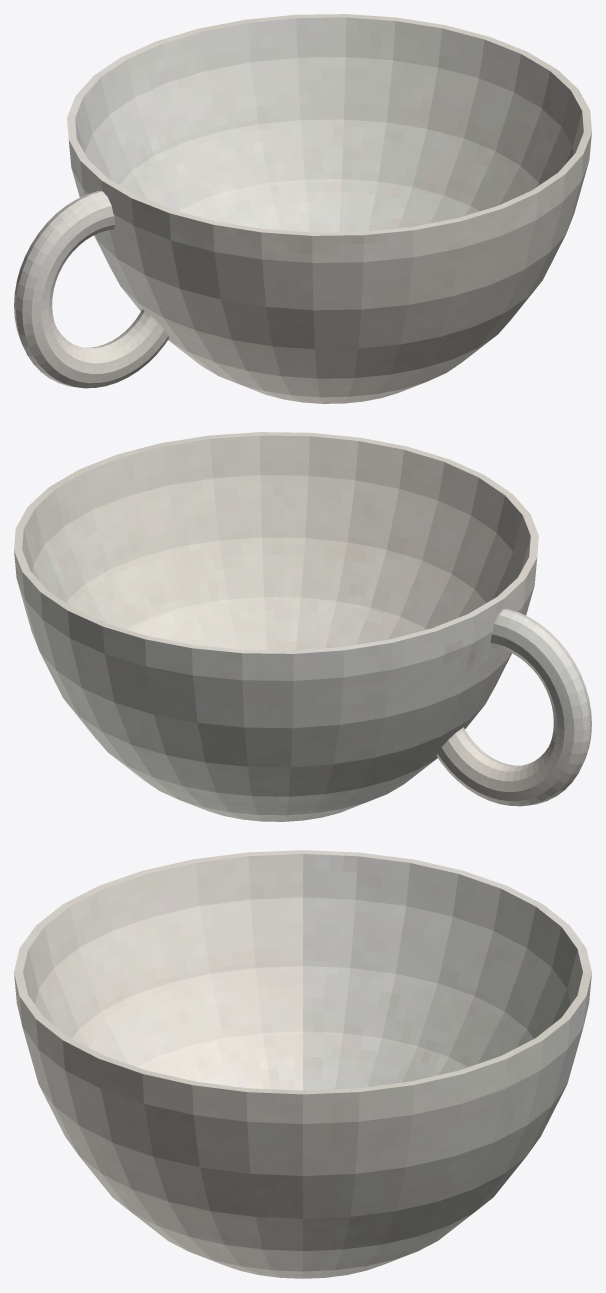
Rendered from cup.glb.
3 views of the same model, one above another, from view 1: azimuth 30°, elevation 25°; view 2: azimuth 150°, elevation 25°; view 3: azimuth 270°, elevation 25° (orthographic). The views are drawn at different scales.
Visible parts, largest first — view 1: Sphere; view 2: Sphere; view 3: Sphere.
Boxes of the visible parts, <box> form: Sphere: <box>14,14,591,403</box>; Sphere: <box>14,432,591,821</box>; Sphere: <box>14,850,591,1278</box>.
Bounding box in the file's own units: 1.88 × 0.781 × 1.58.
Materials: 1 (1 with a texture image).
